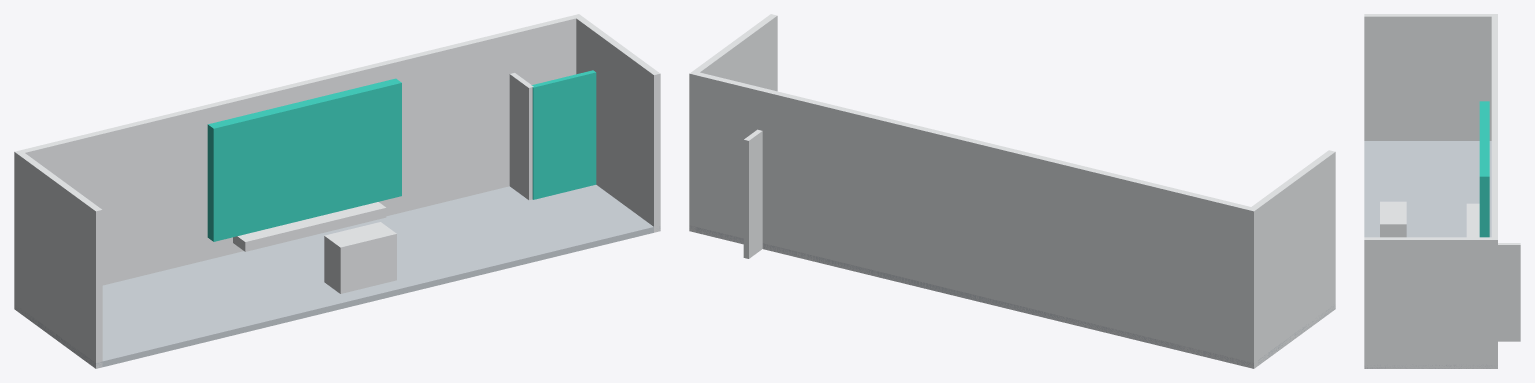
3 renders of one model, left to right at view 1: azimuth 30°, elevation 25°; view 2: azimuth 150°, elevation 25°; view 3: azimuth 270°, elevation 25°, orthographic. The views are drawn at different scales.
Visible parts, largest first — view 1: Exhibition Booth Concept; view 2: Exhibition Booth Concept; view 3: Exhibition Booth Concept.
Part boxes in pixels (left/top/right/bottom): Exhibition Booth Concept: left=14, top=14, right=660, bottom=368; Exhibition Booth Concept: left=689, top=14, right=1335, bottom=368; Exhibition Booth Concept: left=1364, top=14, right=1520, bottom=368.
Size of the model in its own units: 12 by 3.2 by 3.51.
